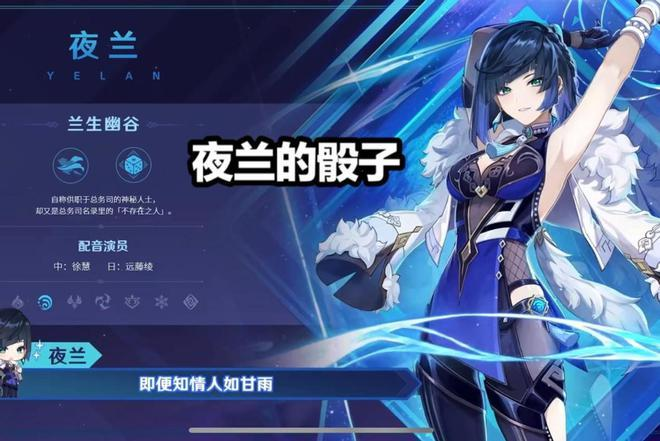夜兰: (411, 3, 660, 441)
